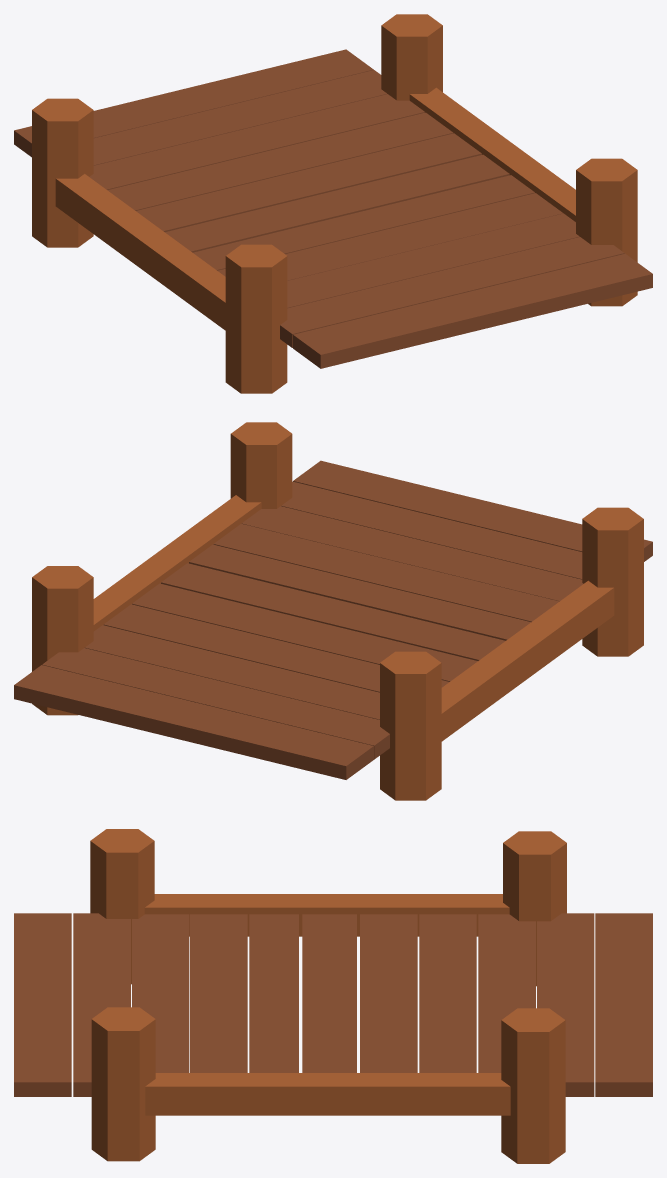
Rendered from bridge1.fbx.
3 renders of one model, top to bottom at view 1: azimuth 30°, elevation 25°; view 2: azimuth 150°, elevation 25°; view 3: azimuth 270°, elevation 25°, orthographic. The views are drawn at different scales.
Visible parts, largest first — view 1: bridge1; view 2: bridge1; view 3: bridge1.
Part boxes in pixels (x1,y1,x2,y2): bridge1: [14, 14, 652, 393]; bridge1: [14, 422, 652, 800]; bridge1: [14, 829, 652, 1163].
Bounding box in the file's own units: 150 × 45.43 × 199.
